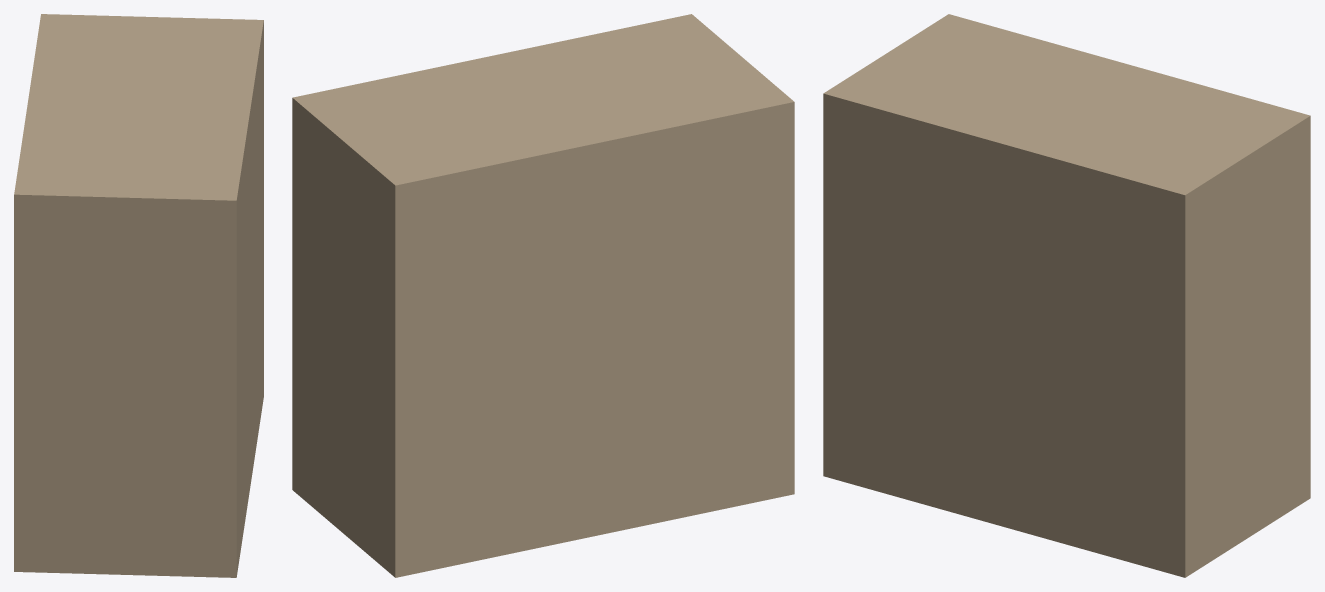
Rendered from bld_100478275.dae.
3 views of the same model, side by side, from view 1: azimuth 30°, elevation 25°; view 2: azimuth 150°, elevation 25°; view 3: azimuth 270°, elevation 25° (orthographic). The views are drawn at different scales.
Visible parts, largest first — view 1: bld_100478275; view 2: bld_100478275; view 3: bld_100478275.
Boxes of the visible parts, bbox=[...] form: bld_100478275: bbox=[14, 14, 263, 577]; bld_100478275: bbox=[292, 14, 794, 577]; bld_100478275: bbox=[823, 14, 1310, 577].
Bounding box in the file's own units: 8.13 × 9.24 × 8.
